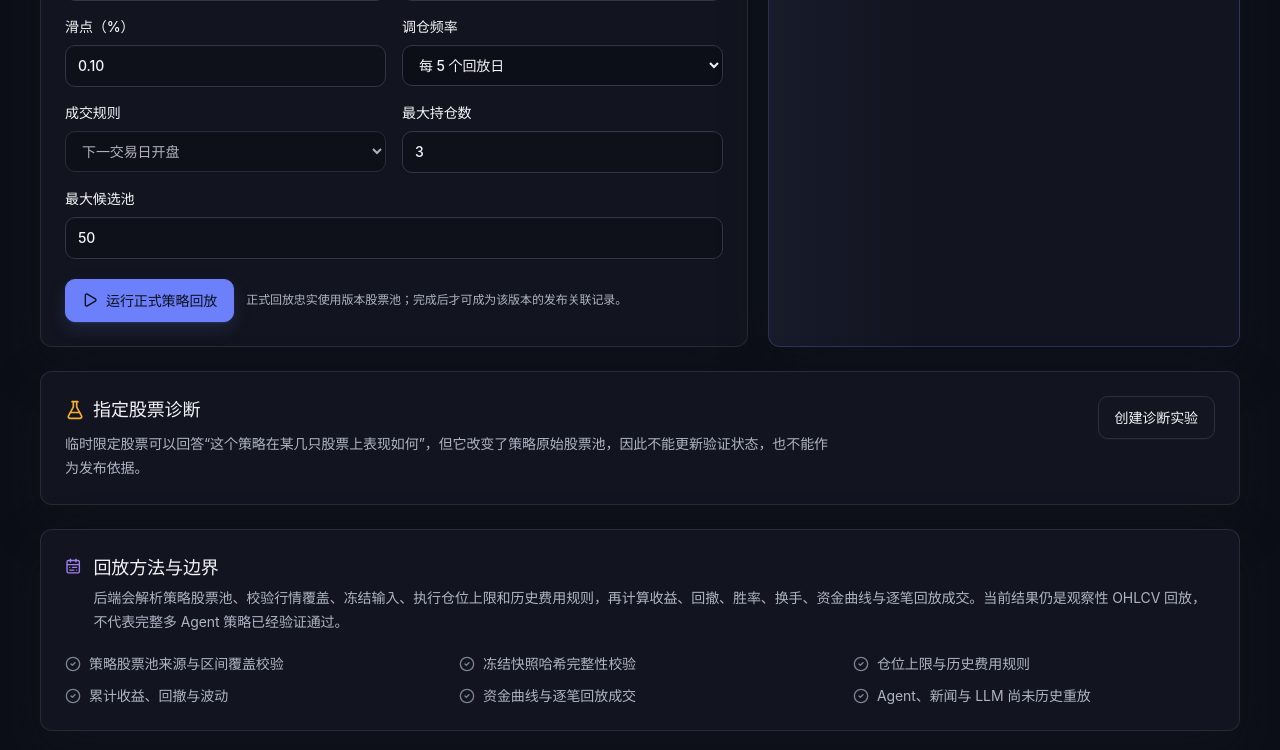
Test: StrategyValidationPage › keeps specified-stock diagnostics separate and requires explicit symbols
The width and height of the screenshot is (1280, 750).
(page scrolled)
Click the button "创建诊断实验": (1156, 417) [1098,396,1215,439]
(page scrolled)
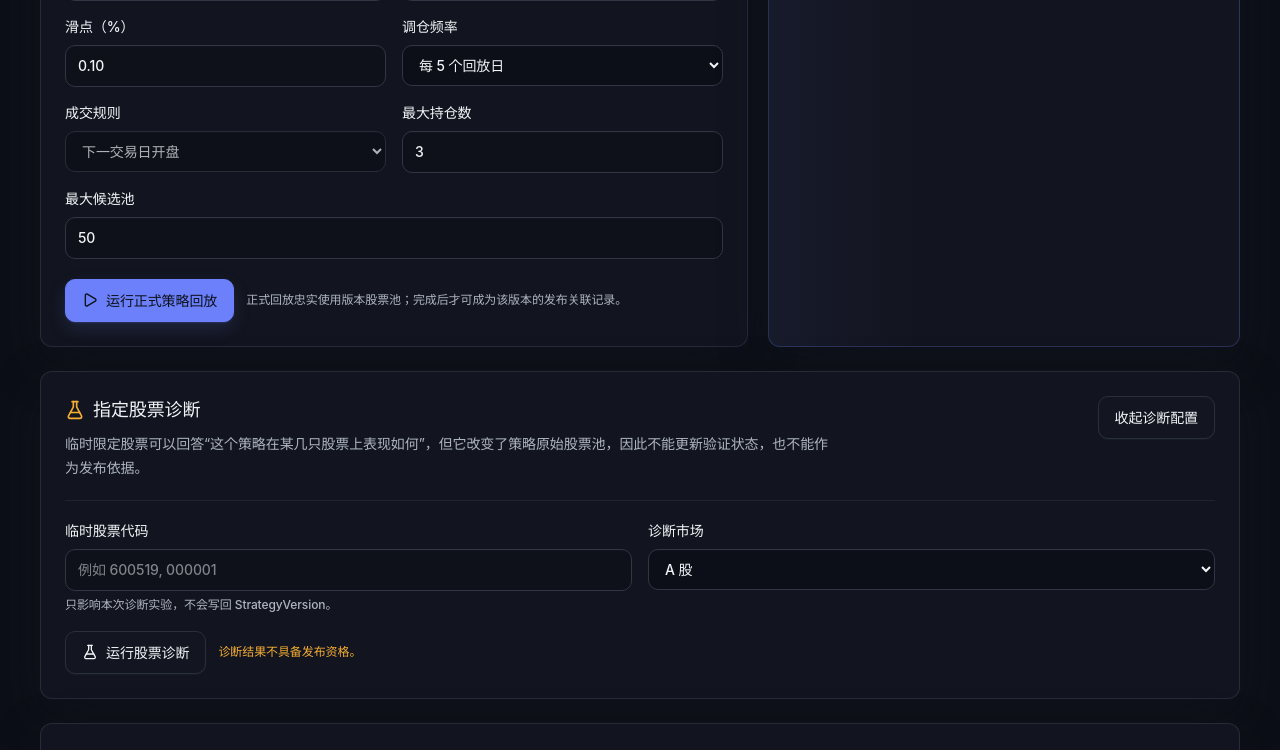
expect the field named "诊断股票代码" is shown: met, box [65,549,632,591]
Click the button "运行股票诊断": (136, 652) [65,631,206,674]
(page scrolled)
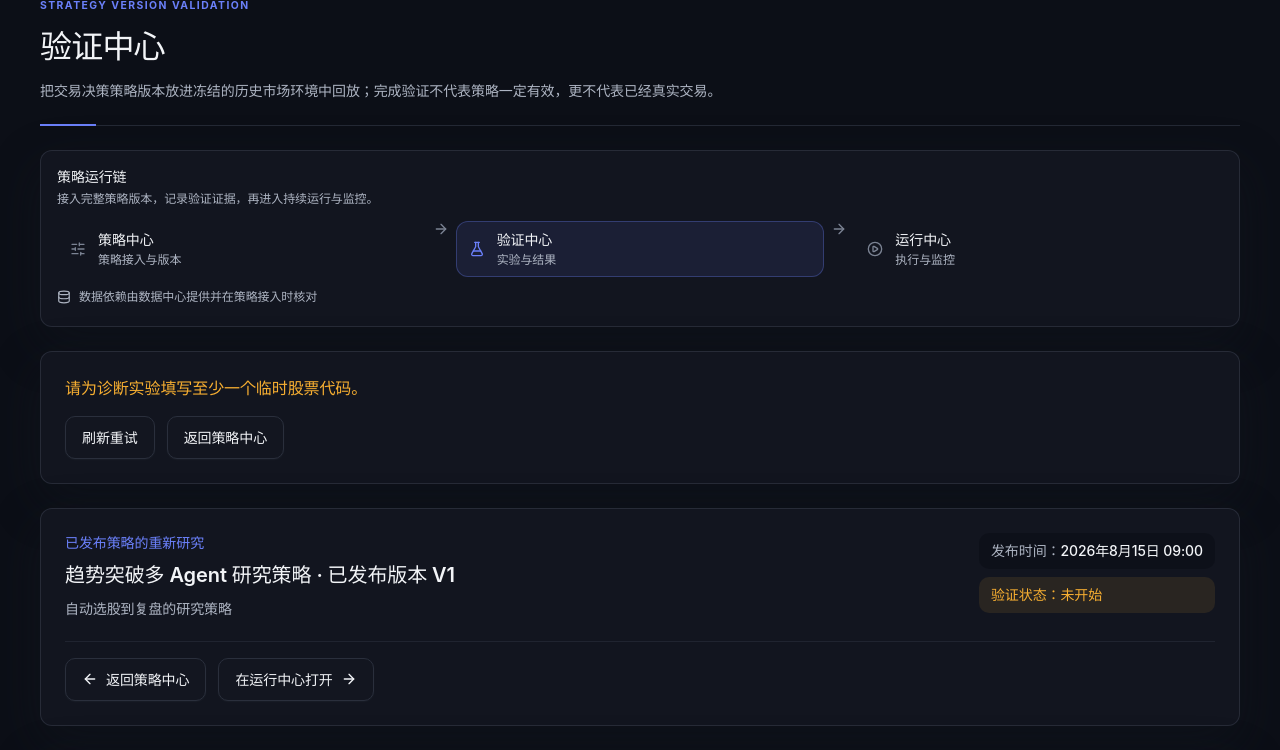
expect the message shows "请为诊断实验填写至少一个临时股票代码": met, box [65,378,367,398]
